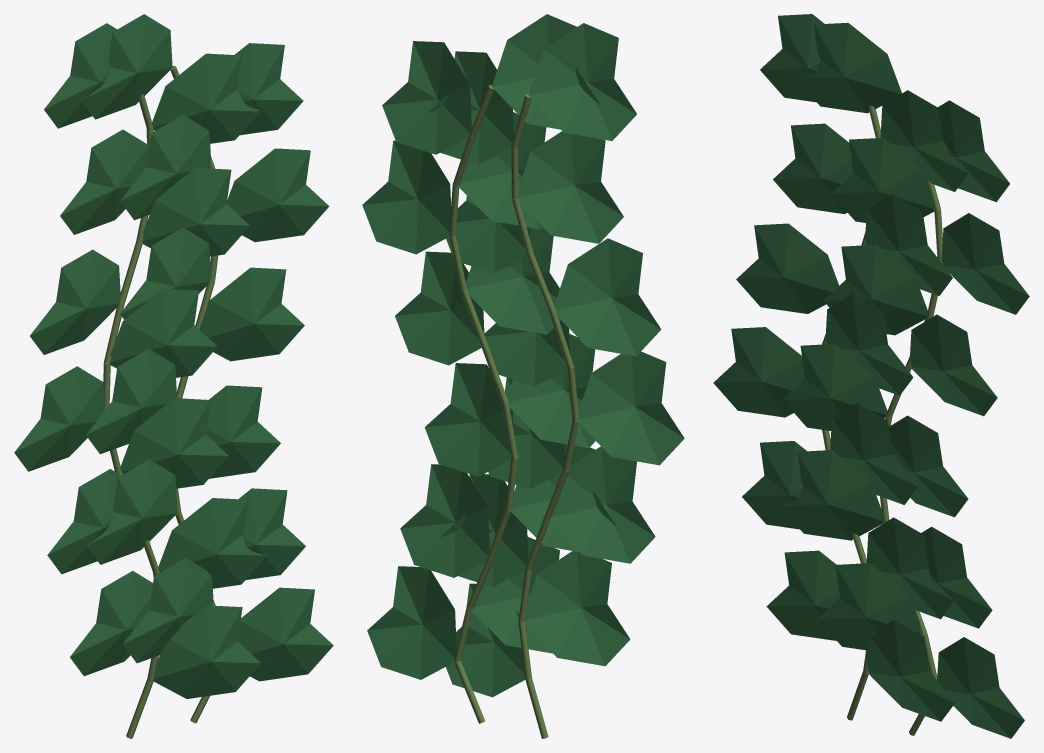
Rendered from ficus-pumila.glb.
3 renders of one model, left to right at view 1: azimuth 30°, elevation 25°; view 2: azimuth 150°, elevation 25°; view 3: azimuth 330°, elevation 25°, orthographic. The views are drawn at different scales.
Parts seen in each view (by area): view 1: Climber species leaves, Climber species stems; view 2: Climber species leaves, Climber species stems; view 3: Climber species leaves, Climber species stems.
Boxes of the visible parts, bbox=[...] form: Climber species leaves: bbox=[14, 14, 333, 698]; Climber species stems: bbox=[103, 65, 218, 738]; Climber species leaves: bbox=[362, 14, 684, 697]; Climber species stems: bbox=[449, 85, 579, 738]; Climber species leaves: bbox=[713, 14, 1029, 738]; Climber species stems: bbox=[822, 105, 942, 735].
Size of the model in its own units: 0.4016 by 0.8706 by 0.0618.
